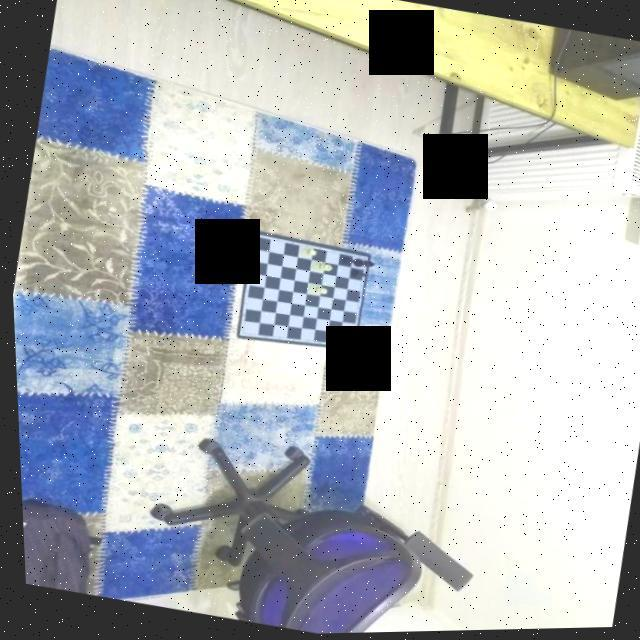chess-table-corners: (246, 232, 258, 243), (342, 341, 352, 351), (357, 256, 367, 265), (235, 330, 244, 338)
